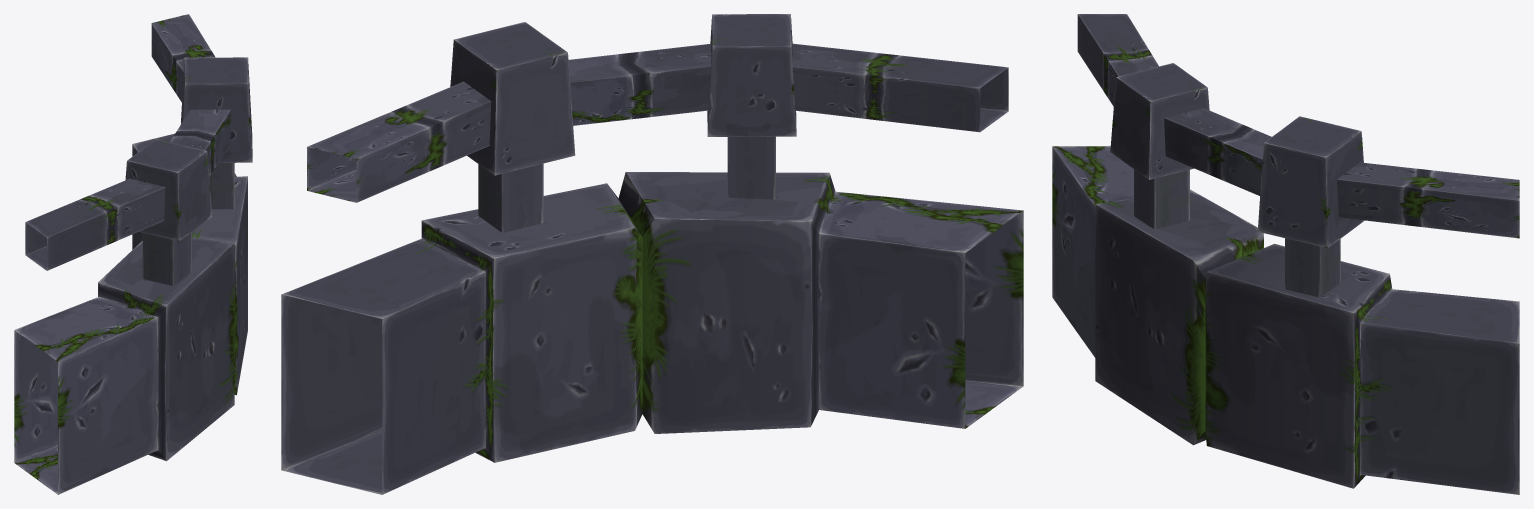
File: MOD_Railing_01_convex_2.fbx
3 views of the same model, side by side, from view 1: azimuth 30°, elevation 25°; view 2: azimuth 150°, elevation 25°; view 3: azimuth 270°, elevation 25° (orthographic). The views are drawn at different scales.
Parts seen in each view (by area): view 1: MOD_Railing_01_convex_2; view 2: MOD_Railing_01_convex_2; view 3: MOD_Railing_01_convex_2.
Boxes of the visible parts, bbox=[...] form: MOD_Railing_01_convex_2: bbox=[14, 14, 252, 494]; MOD_Railing_01_convex_2: bbox=[281, 14, 1023, 494]; MOD_Railing_01_convex_2: bbox=[1052, 14, 1519, 494].
Size of what is drawn, in the model's own units: 224 by 173 by 224.
